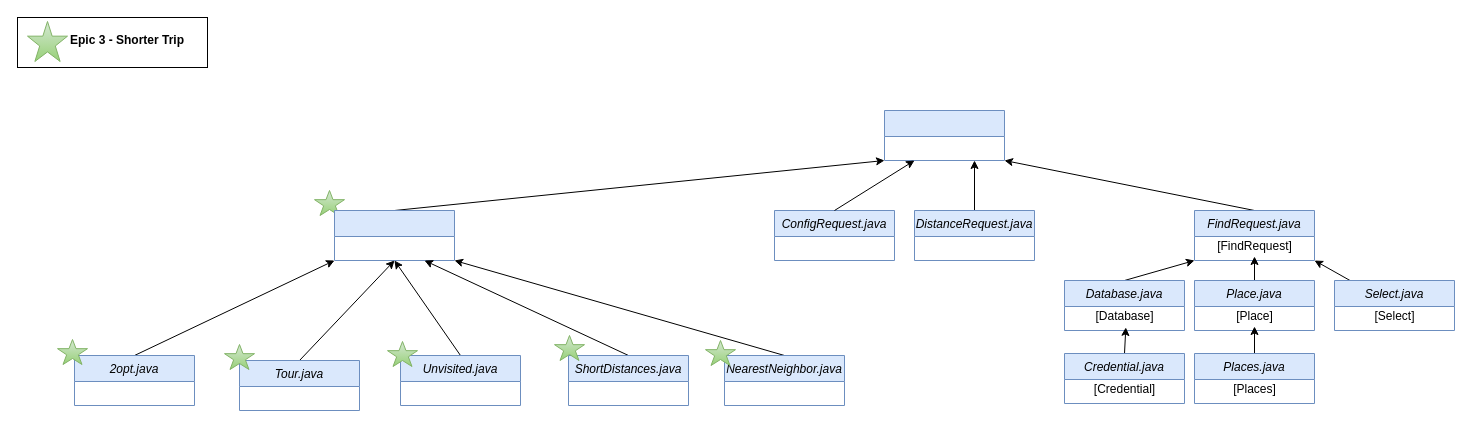
Image size: 1472x428. Some labels were removed from this diagram. The centre of each missing label's shape, as x and y in pixels:
Request: (944,135)
TourRequest.java: (394,235)
